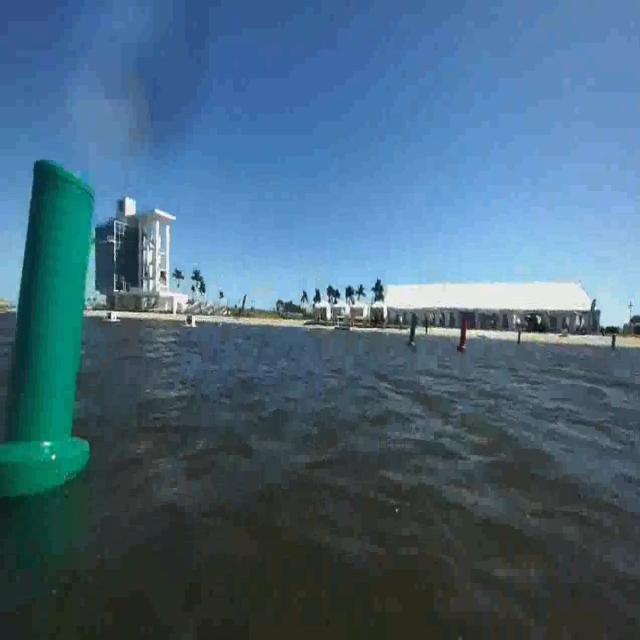green-column-buoy: (1, 158, 99, 497), (408, 314, 420, 350)
red-column-buoy: (458, 318, 470, 354)
